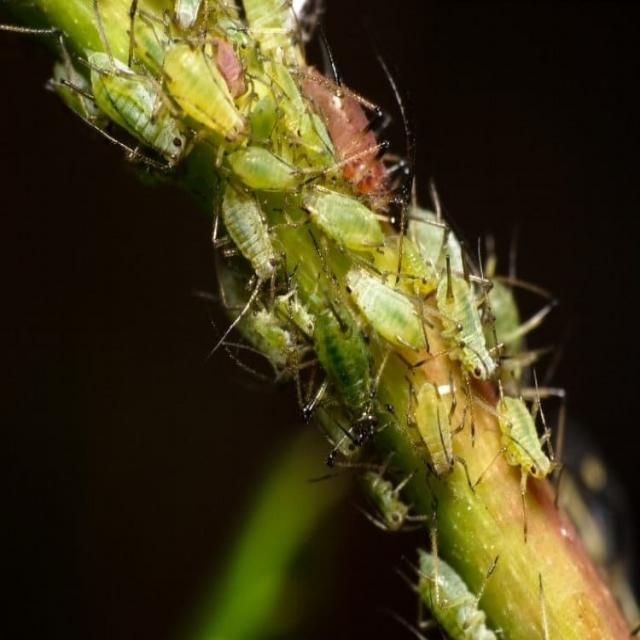aphid: (58, 30, 197, 185), (156, 21, 258, 157), (424, 271, 518, 388), (338, 250, 432, 364), (490, 380, 565, 498), (401, 380, 479, 490), (208, 174, 281, 279), (341, 462, 418, 540)
